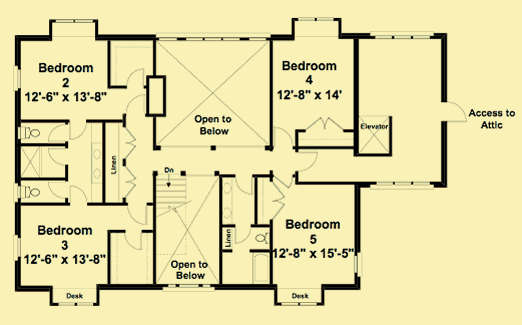door: (303, 114, 346, 135), (439, 98, 469, 127), (270, 177, 287, 227), (272, 124, 295, 152), (125, 93, 147, 121), (126, 201, 149, 227), (294, 149, 320, 172), (232, 172, 255, 198), (122, 126, 140, 159), (121, 165, 138, 199), (122, 228, 146, 252), (232, 221, 255, 246), (67, 182, 90, 206), (271, 169, 296, 191), (125, 66, 147, 90), (45, 147, 68, 169), (67, 118, 88, 142), (45, 123, 68, 143), (47, 180, 67, 201)
large sink: (21, 123, 41, 147), (18, 184, 43, 202), (255, 230, 272, 245)
small sink: (89, 144, 104, 182)
stairs: (153, 165, 191, 238)
tub: (250, 248, 270, 287)
windows: (364, 28, 437, 43), (365, 177, 437, 191), (161, 282, 218, 295), (183, 34, 243, 45), (55, 299, 97, 310), (352, 248, 365, 282), (52, 17, 96, 27), (278, 298, 322, 308), (10, 62, 23, 94), (12, 230, 24, 264), (295, 14, 336, 23), (153, 35, 180, 45), (246, 33, 268, 44)
